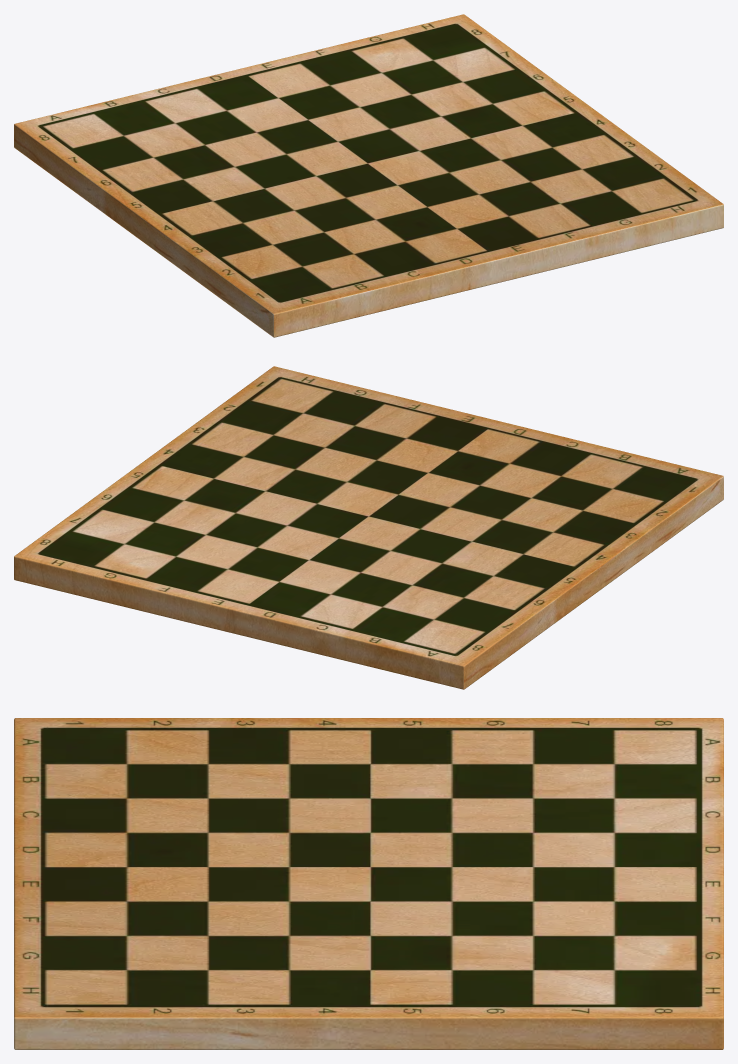
Rendered from board.glb.
3 renders of one model, top to bottom at view 1: azimuth 30°, elevation 25°; view 2: azimuth 150°, elevation 25°; view 3: azimuth 270°, elevation 25°, orthographic. The views are drawn at different scales.
Visible parts, largest first — view 1: 10586_Chess Board_v2_Iterations-2; view 2: 10586_Chess Board_v2_Iterations-2; view 3: 10586_Chess Board_v2_Iterations-2.
Boxes of the visible parts, x1,y1,x2,y2 form: 10586_Chess Board_v2_Iterations-2: (14,14,723,337); 10586_Chess Board_v2_Iterations-2: (14,366,723,689); 10586_Chess Board_v2_Iterations-2: (14,718,723,1049).
Bounding box in the file's own units: 19.5 × 1 × 19.5.
1 material, 1 textured.
